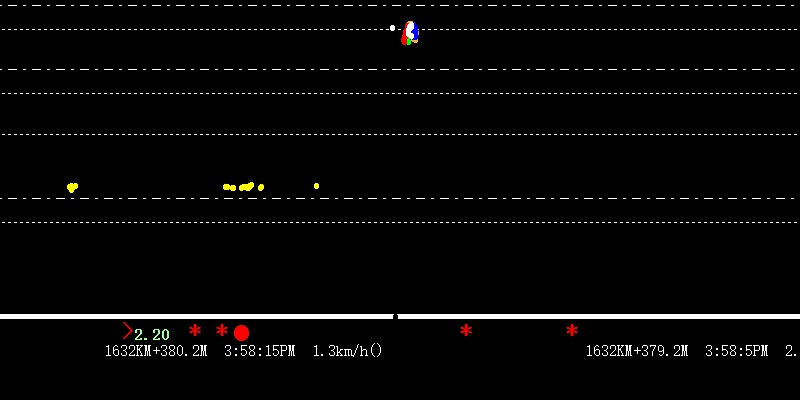circle: (233, 321, 250, 342)
face_2: (401, 21, 420, 45)
star: (212, 320, 230, 339), (457, 320, 474, 339), (186, 321, 203, 340), (564, 320, 580, 340)
